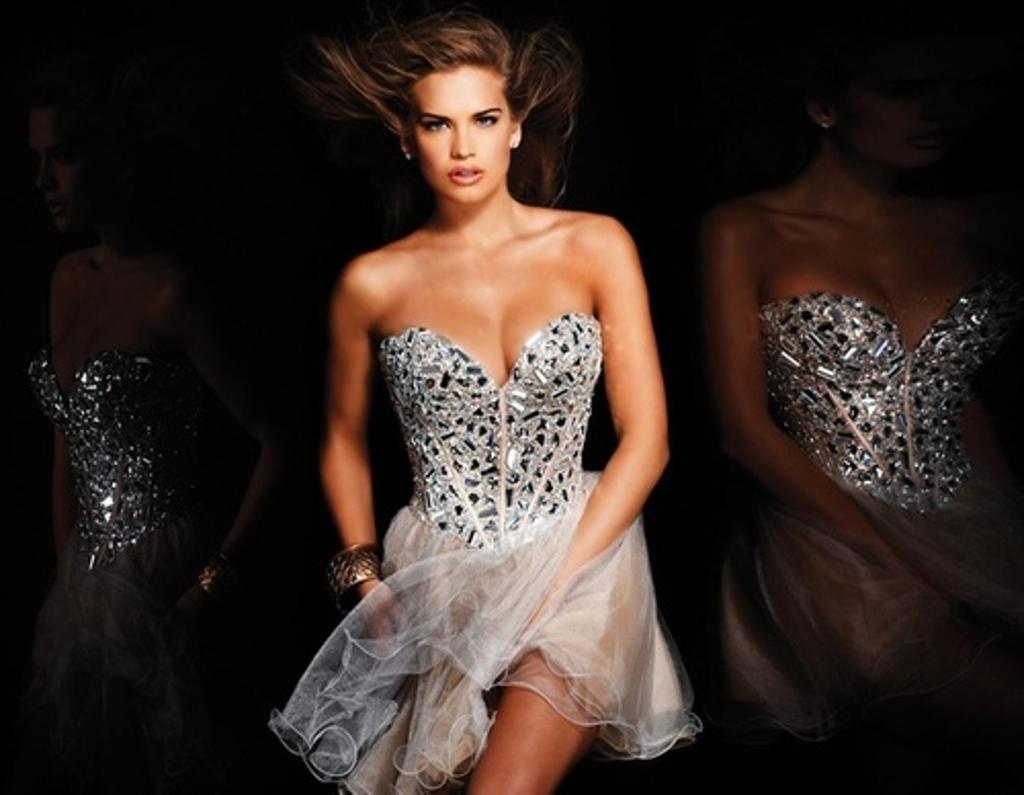face: (412, 66, 514, 200), (30, 104, 106, 232)
